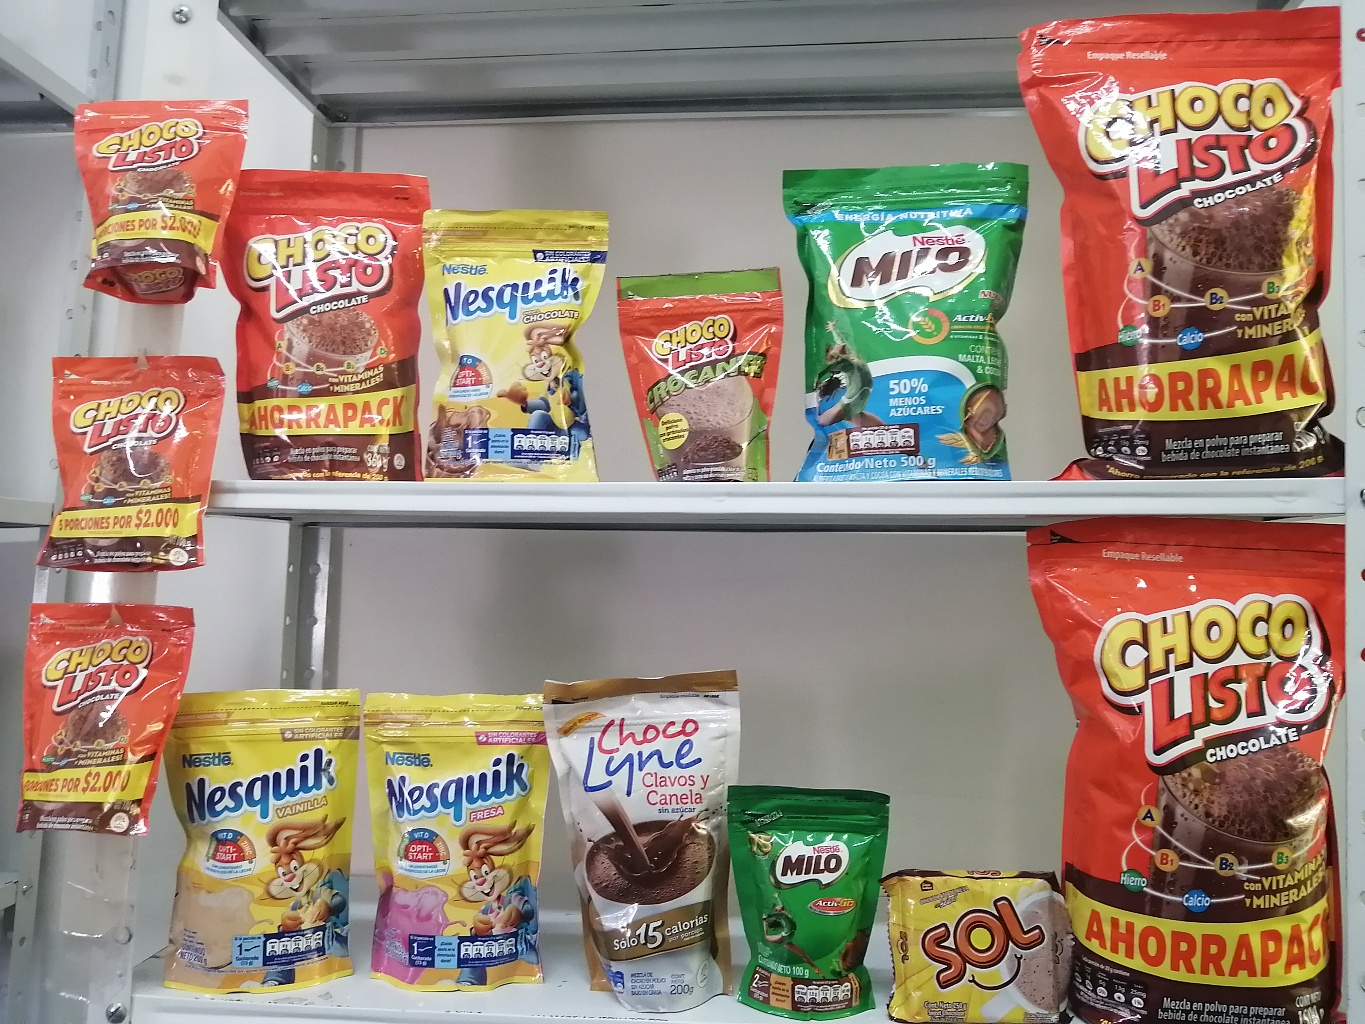COL0170102DYP10000: (609, 259, 782, 484)
COL0170103DYP1,500: (1030, 3, 1341, 482)
COL0170103DYP36000: (217, 167, 435, 477)
COL0170203DYP10000: (726, 771, 898, 1014)
COL0170205DYP50000: (782, 141, 1037, 486)
COL0170303DYP20000: (414, 199, 607, 478)
COL0170305DYP20000: (353, 686, 548, 995)
COL0170306DYP20000: (171, 675, 371, 995)
